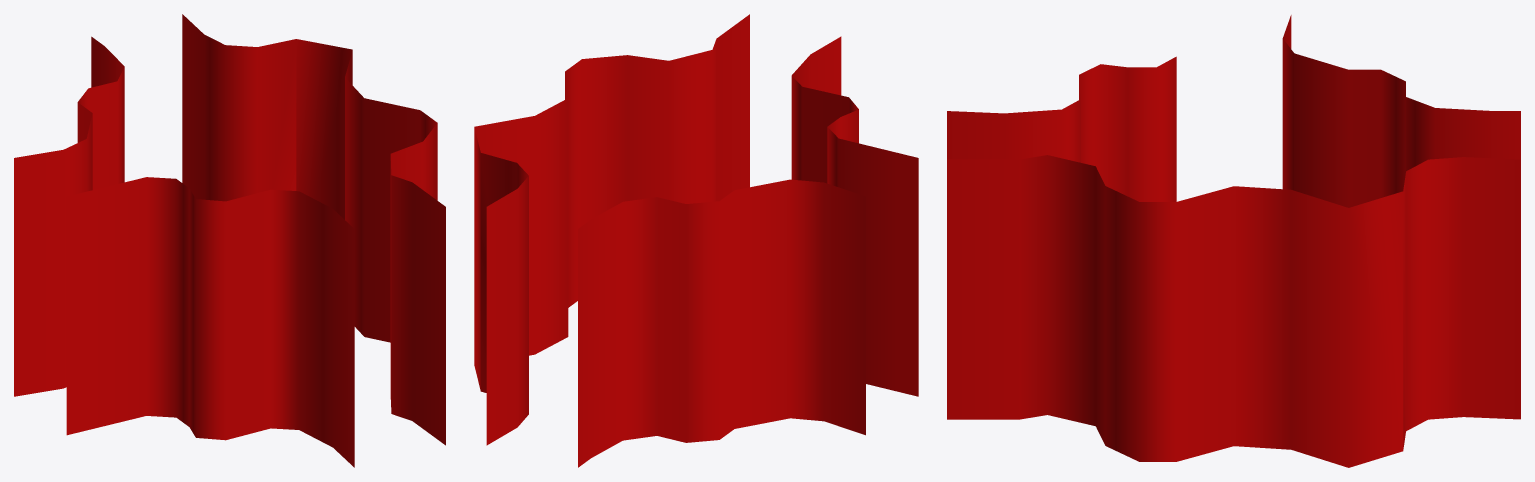
3 views of the same model, side by side, from view 1: azimuth 30°, elevation 25°; view 2: azimuth 150°, elevation 25°; view 3: azimuth 270°, elevation 25° (orthographic). The views are drawn at different scales.
Visible parts, largest first — view 1: BG001_2004_00_c02; view 2: BG001_2004_00_c02; view 3: BG001_2004_00_c02.
Boxes of the visible parts, box(x1,y1,x2,y2) form: BG001_2004_00_c02: box(14, 14, 445, 467); BG001_2004_00_c02: box(474, 14, 918, 467); BG001_2004_00_c02: box(947, 15, 1520, 467).
Bounding box in the file's own units: 1600 × 1000 × 2000.
